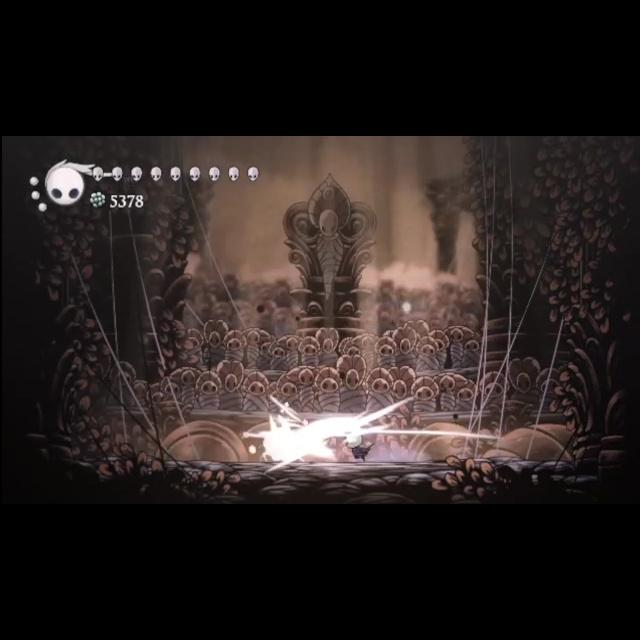EnemyDamaged: (242, 407, 312, 463)
Player: (337, 420, 377, 464)
